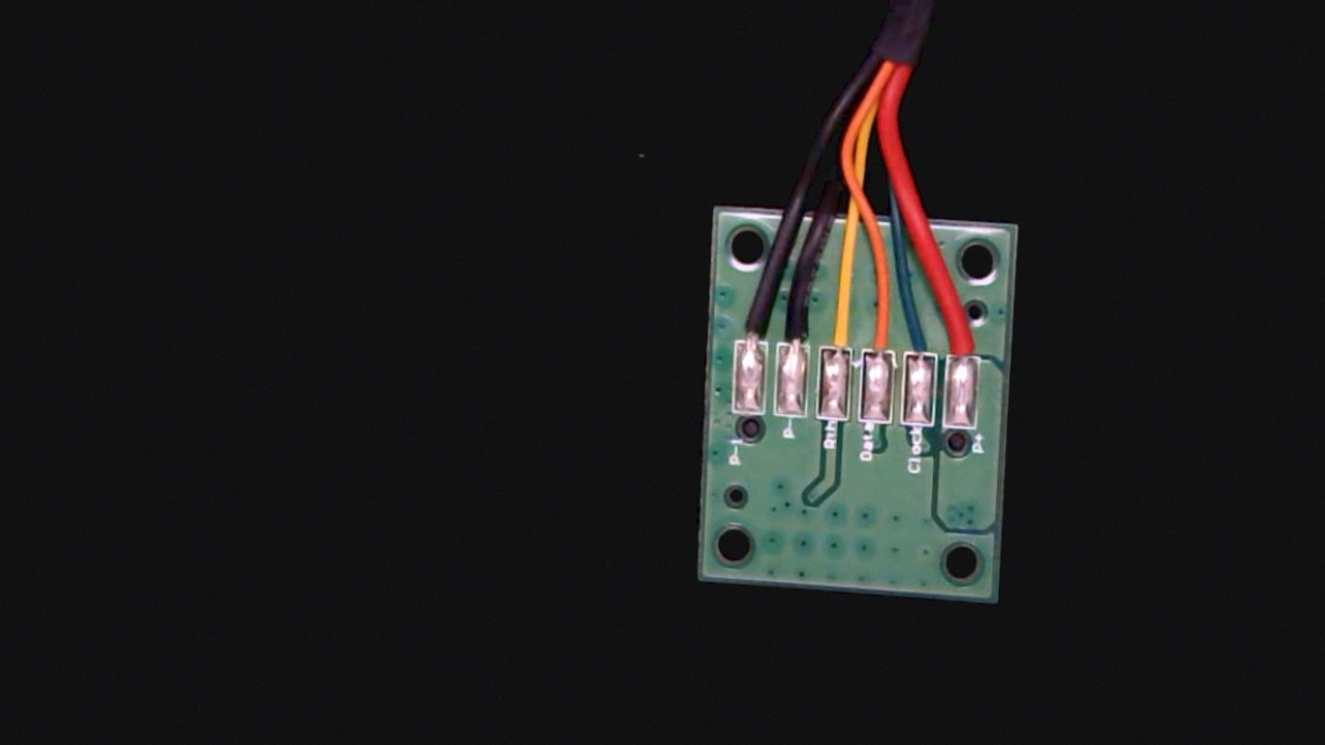Black: (773, 284, 817, 370)
Black1: (733, 287, 774, 366)
Green: (899, 303, 942, 386)
Orange: (858, 295, 899, 380)
Red: (942, 301, 985, 384)
Yellow: (812, 287, 856, 375)
